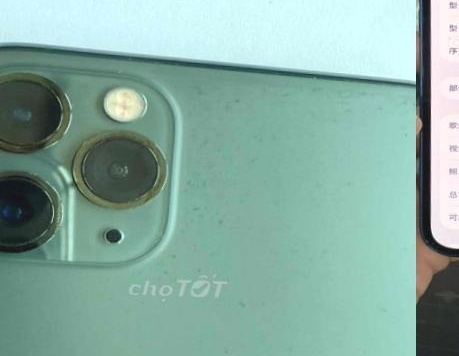scratch: (161, 60, 416, 232), (0, 51, 159, 256), (230, 275, 257, 327)
